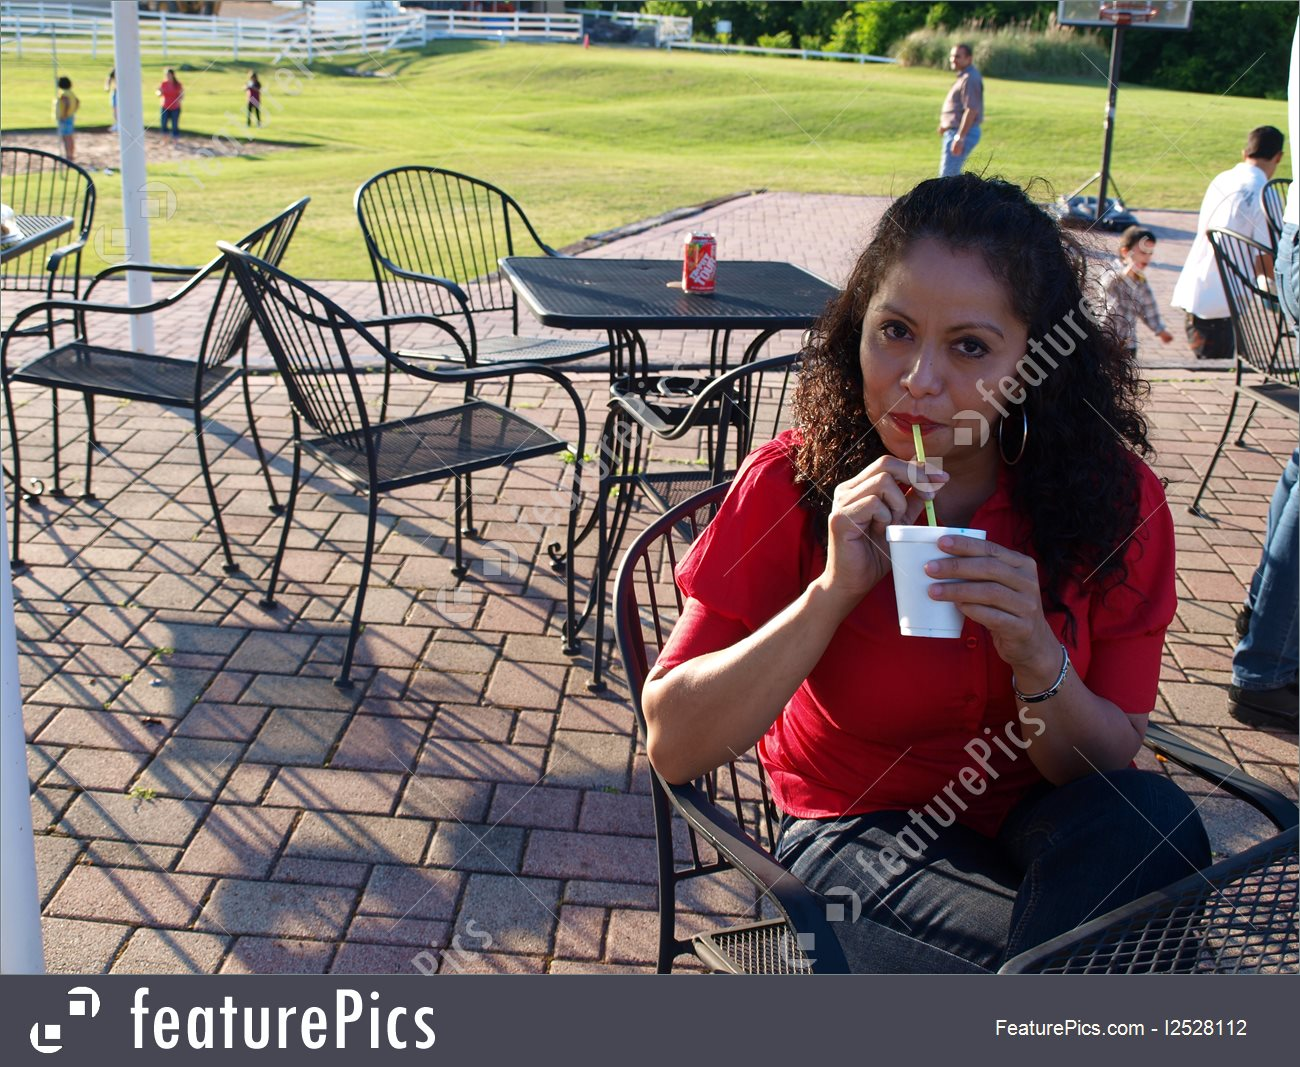drinking: (750, 185, 1196, 800)
